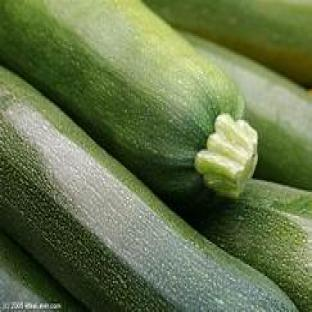Zucchini: (0, 69, 296, 311), (185, 35, 311, 190), (188, 180, 311, 311), (0, 232, 84, 311)
